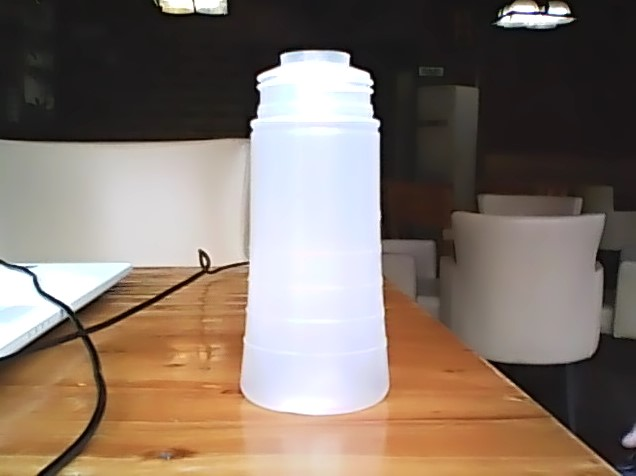Plastic: (234, 46, 397, 415)
